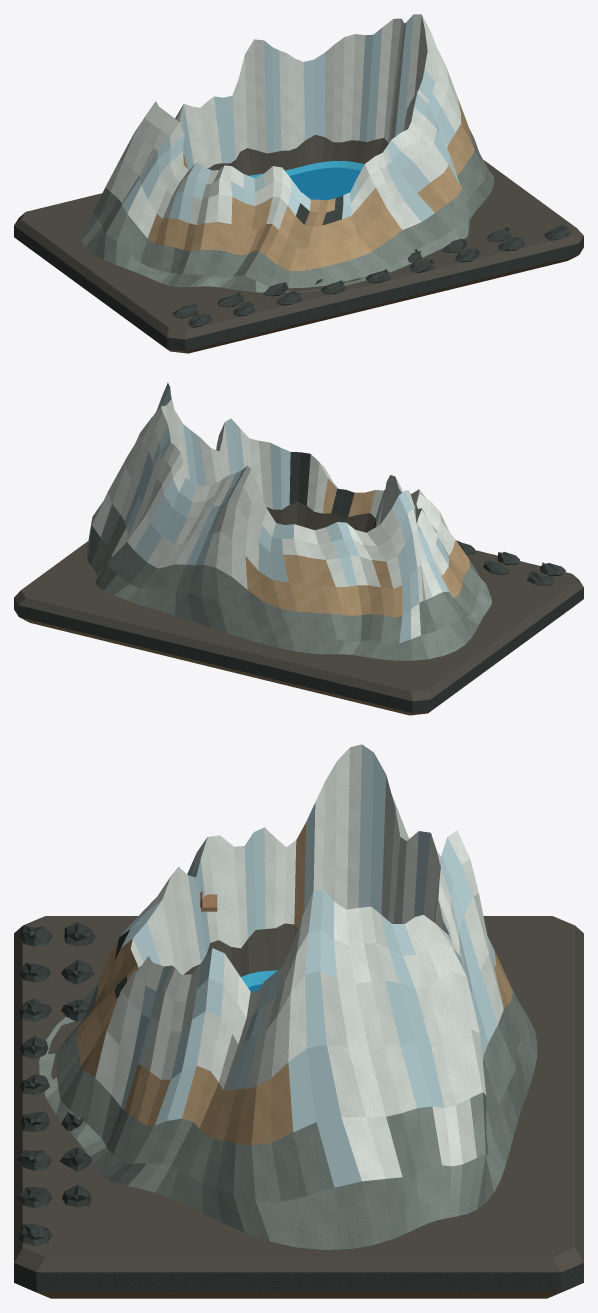
Rendered from changbai.glb.
3 views of the same model, one above another, from view 1: azimuth 30°, elevation 25°; view 2: azimuth 150°, elevation 25°; view 3: azimuth 270°, elevation 25° (orthographic). The views are drawn at different scales.
Parts seen in each view (by area): view 1: 长白山天池; view 2: 长白山天池; view 3: 长白山天池.
Part boxes in pixels (left/top/right/bottom): 长白山天池: left=14, top=14, right=583, bottom=353; 长白山天池: left=14, top=382, right=583, bottom=715; 长白山天池: left=14, top=744, right=583, bottom=1298.
Bounding box in the file's own units: 6.15 × 2.83 × 4.25.
Materials: 11 (6 with a texture image).
